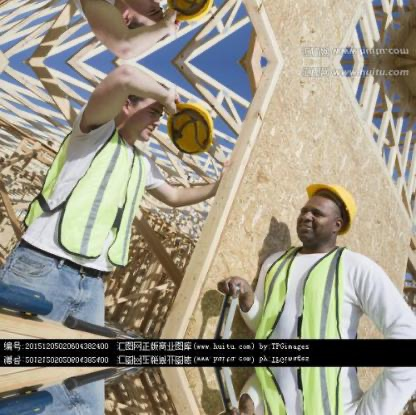No Safety Helmet: (102, 65, 171, 149)
Safety Helmet: (292, 176, 359, 260)
